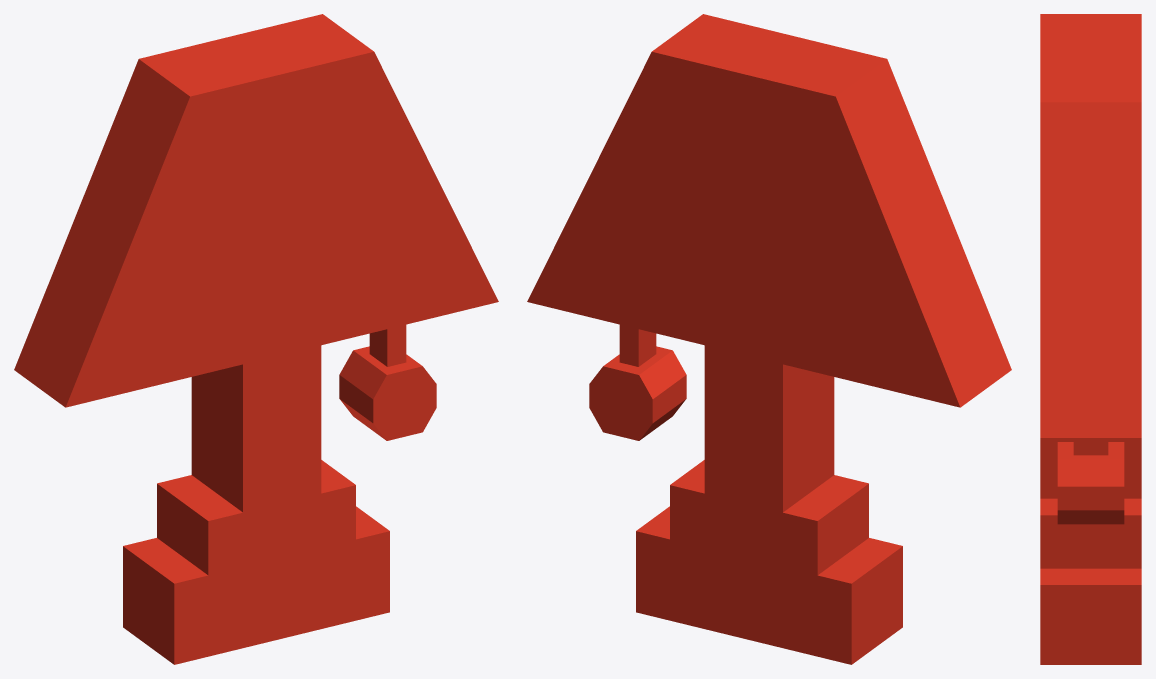
The model's file is Icon_Lamp_01.fbx.
3 renders of one model, left to right at view 1: azimuth 30°, elevation 25°; view 2: azimuth 150°, elevation 25°; view 3: azimuth 270°, elevation 25°, orthographic.
Visible parts, largest first — view 1: Icon_Lamp_01; view 2: Icon_Lamp_01; view 3: Icon_Lamp_01.
Boxes of the visible parts, x1,y1,x2,y2 form: Icon_Lamp_01: (14, 14, 498, 664); Icon_Lamp_01: (527, 14, 1011, 664); Icon_Lamp_01: (1040, 14, 1141, 664).
Size of the model in its own units: 58.6 by 72.93 by 12.06.
